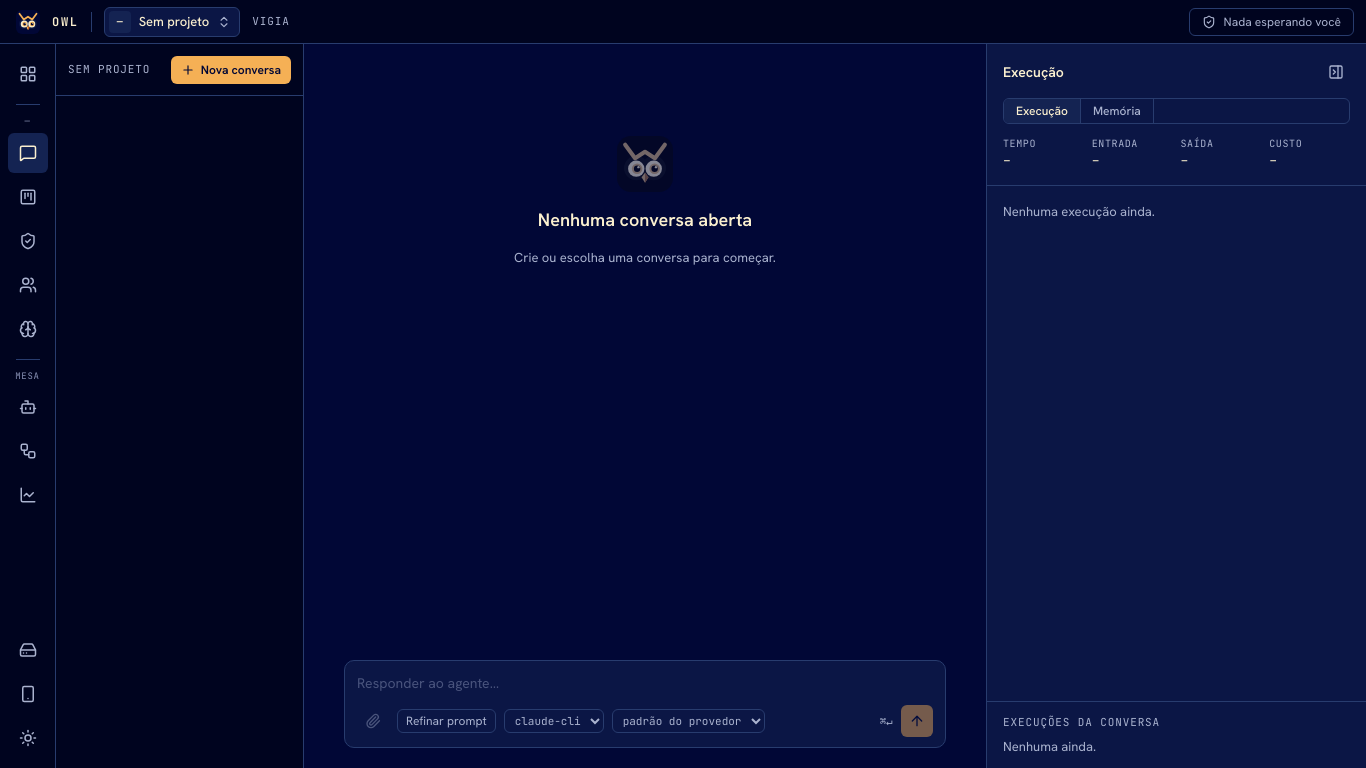
it: trash › empties the trash only after confirmation
Click the button named "Lixeira e armazenamento". click: (28, 650)
box: [8, 630, 48, 670]
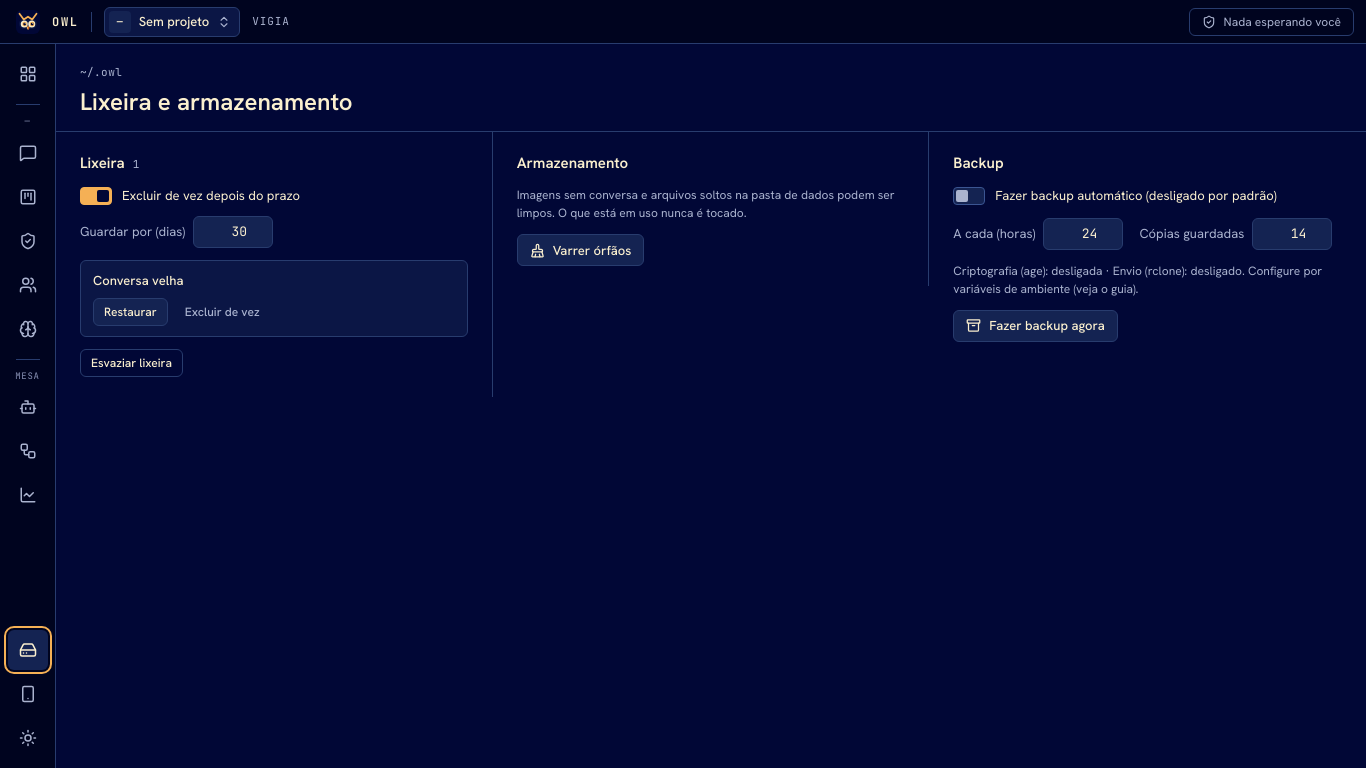
Click the button "Esvaziar lixeira". click: (131, 363)
box: [80, 349, 183, 377]
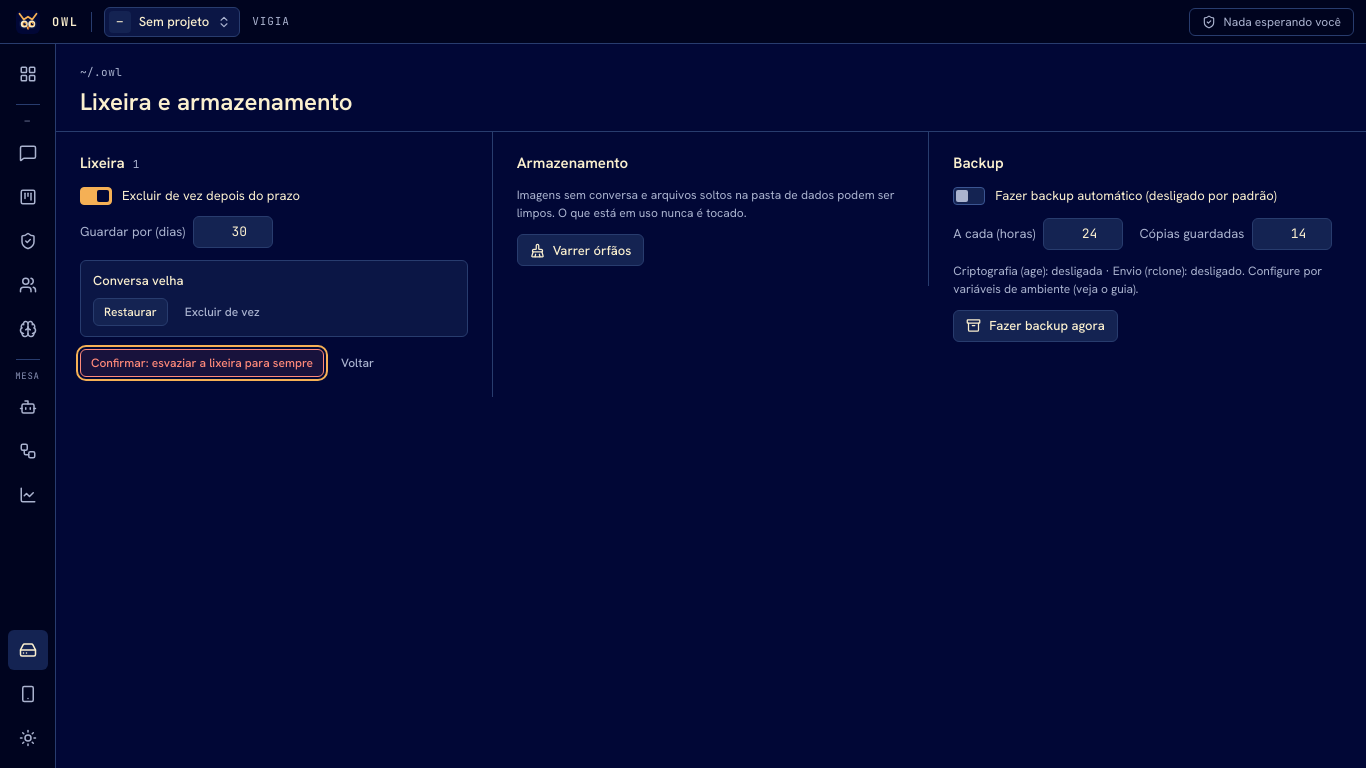
Click the button "Confirmar: esvaziar a lixeira para sempre". click: (202, 363)
box: [80, 349, 324, 377]
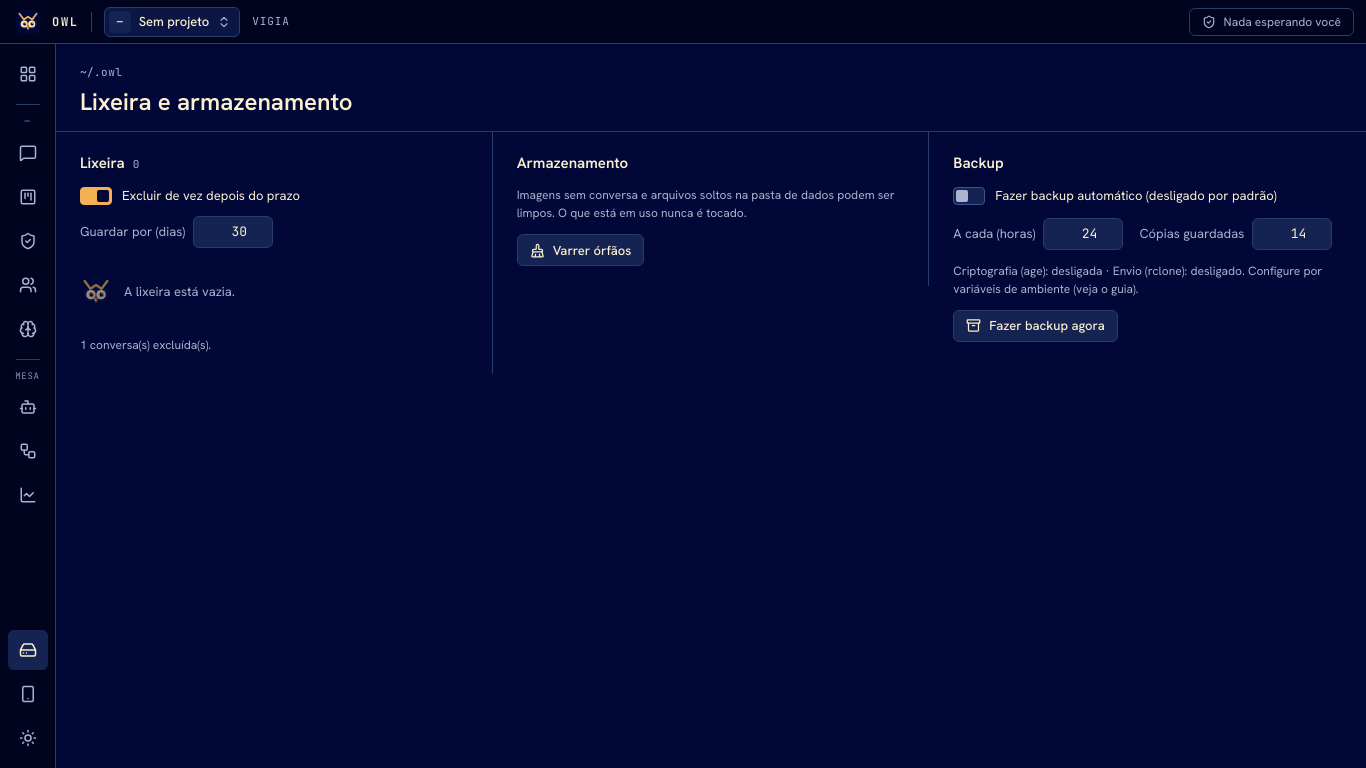
Result: the text "1 conversa(s) excluída(s)." is shown at [80, 336, 211, 352]
